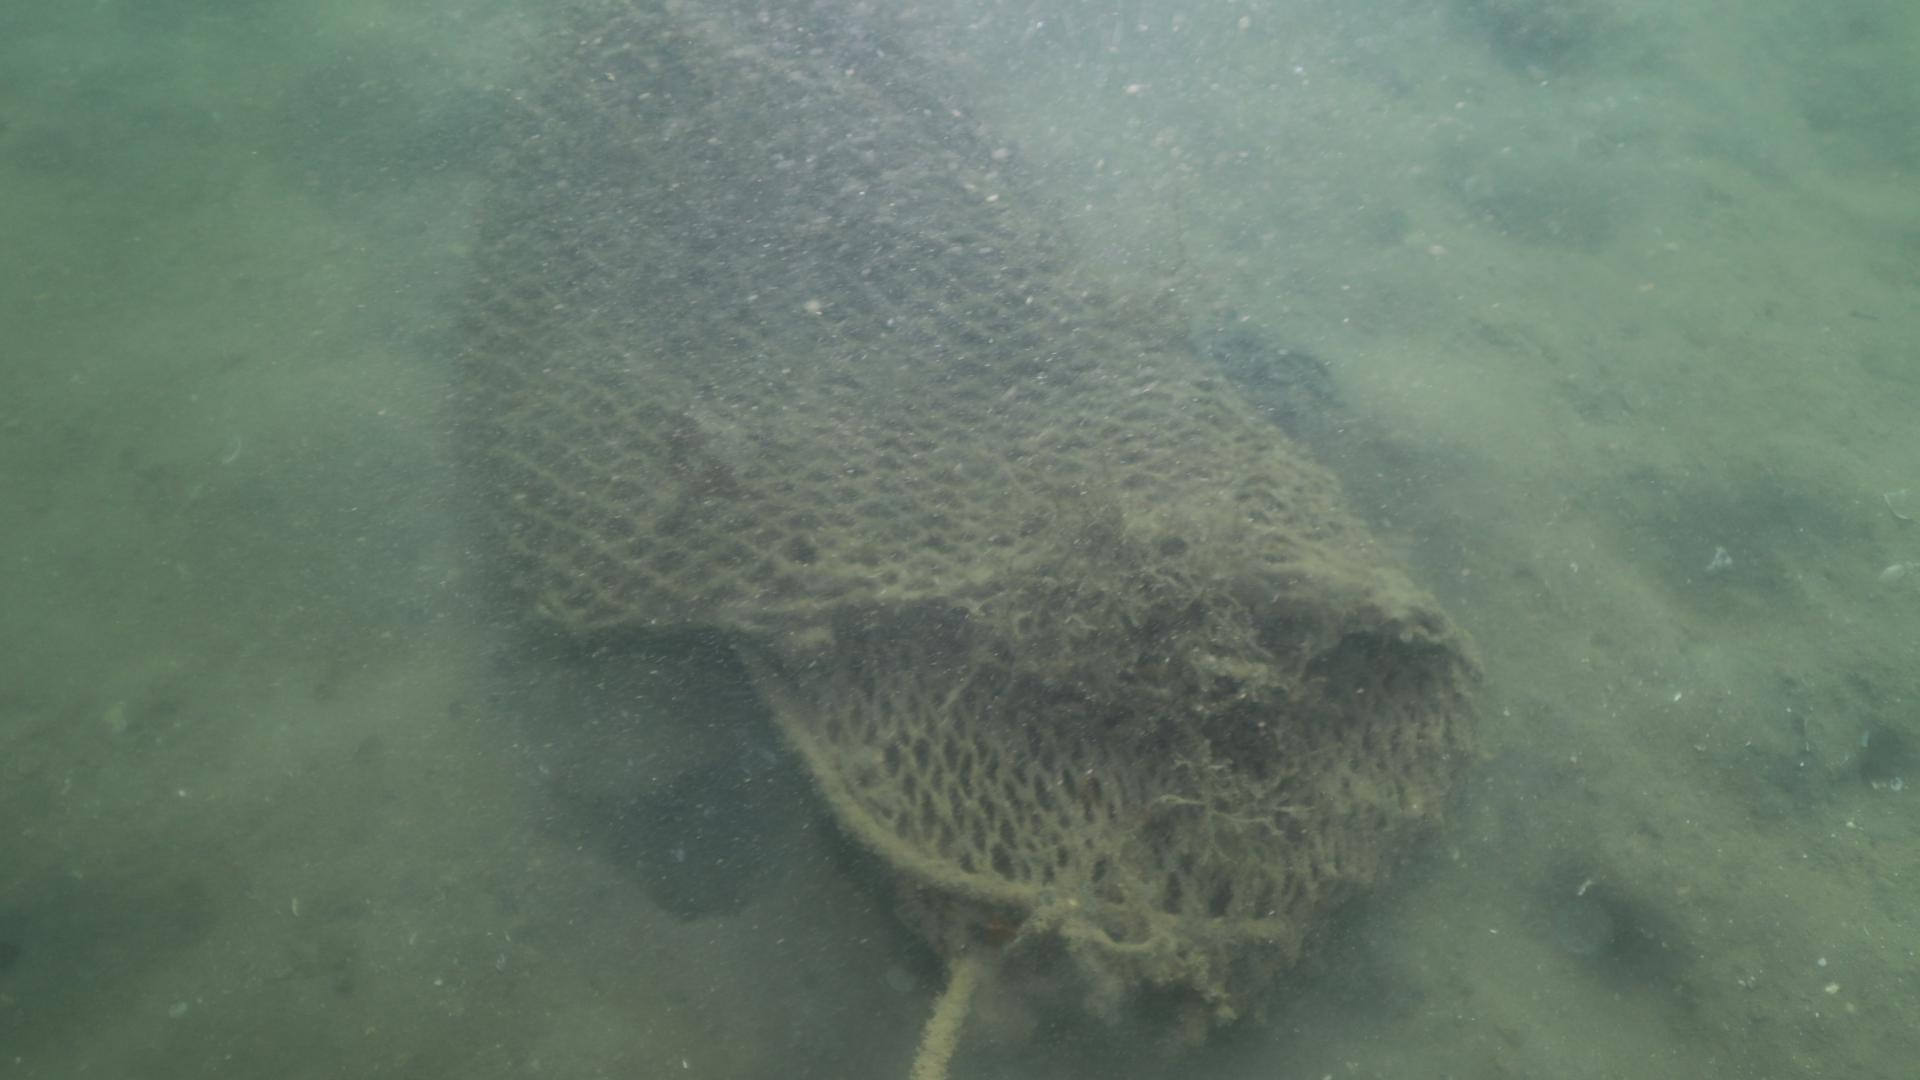fish net: (454, 0, 1485, 920)
